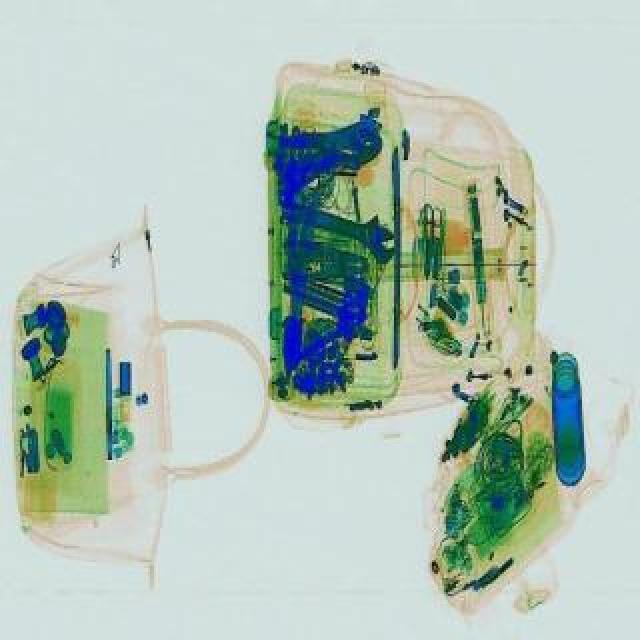scissors: (278, 184, 410, 264)
wrench: (278, 116, 386, 178), (288, 244, 372, 282)
